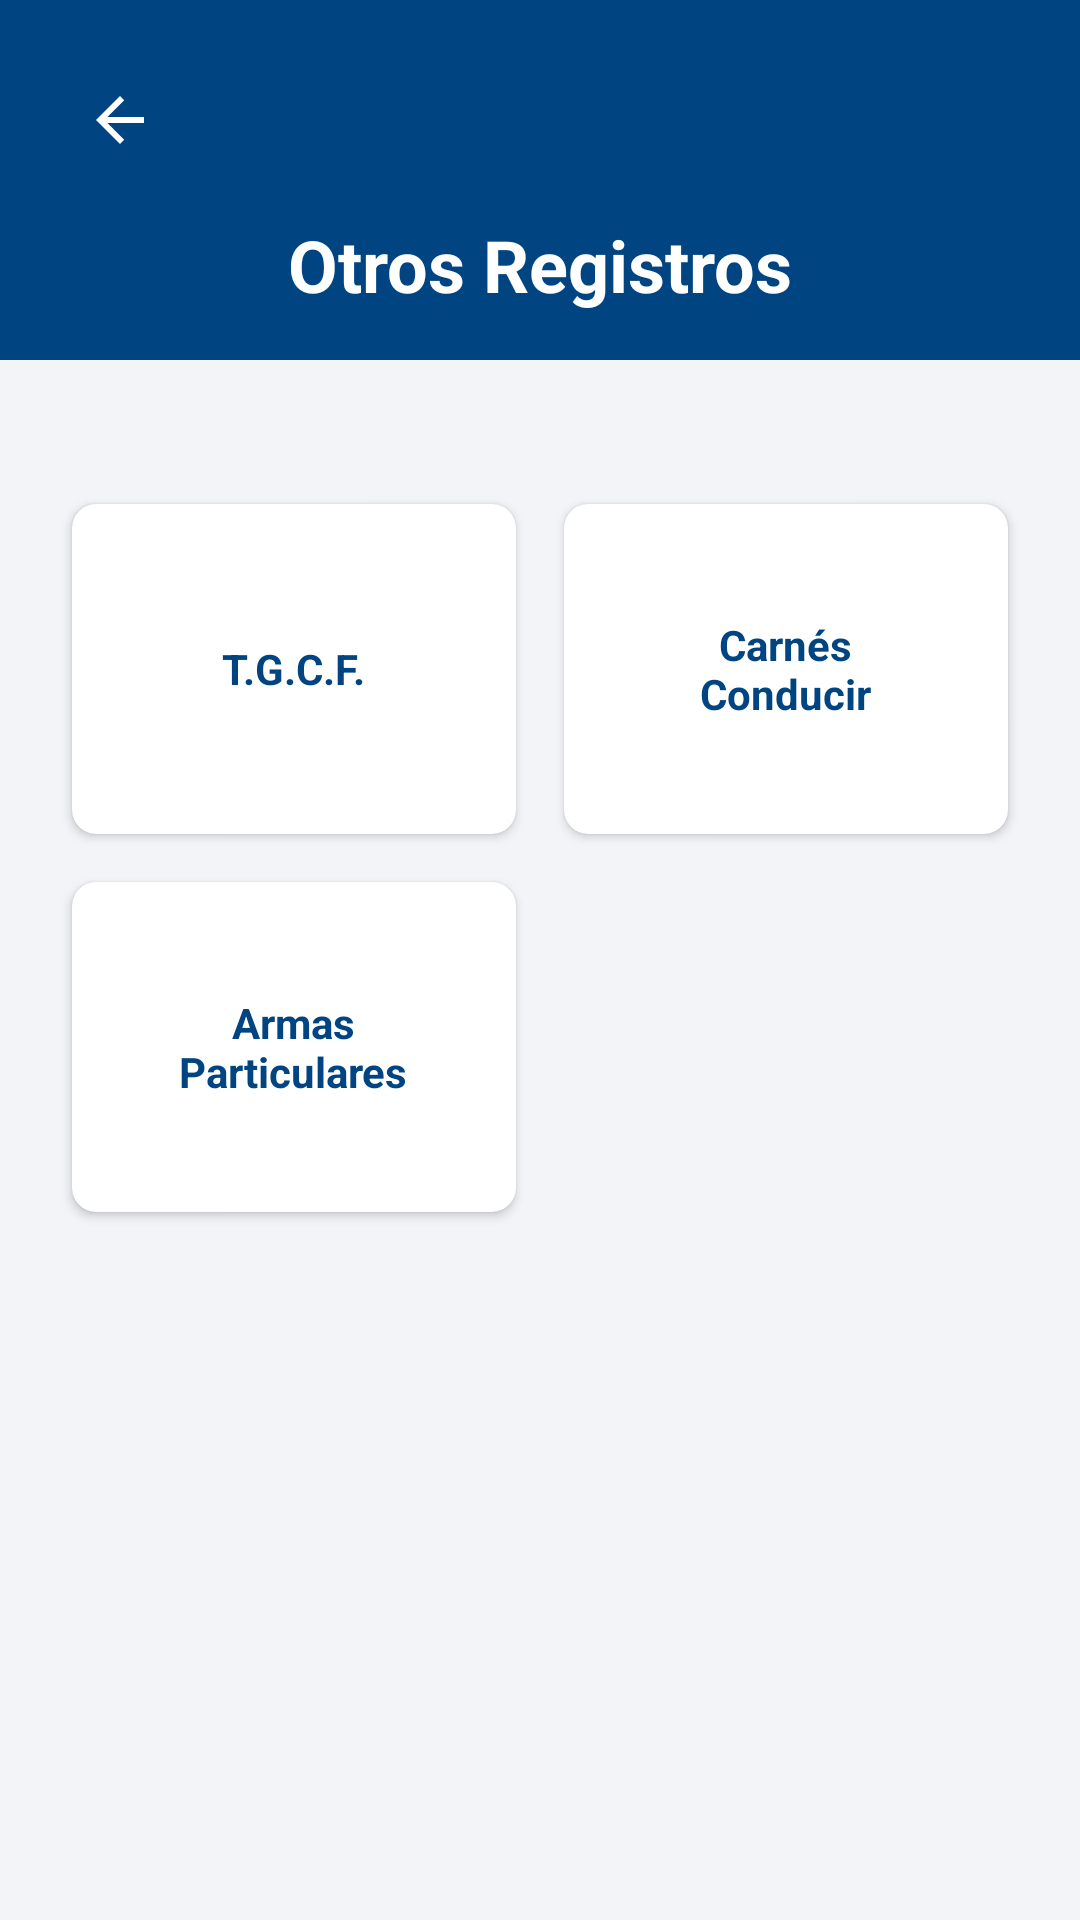

Point at icon controls on the screen. Image size 1080×1920, points as (x=x, y=y).
Volver: (x=120, y=120)
